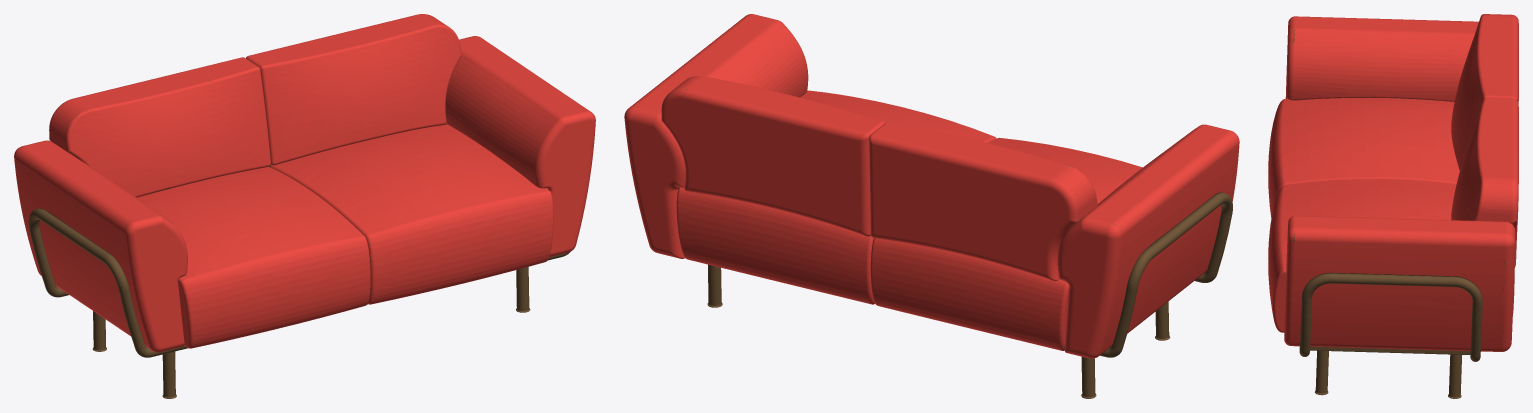
The model's file is sofa.glb.
The picture shows the model from 3 angles, left to right: view 1: azimuth 30°, elevation 25°; view 2: azimuth 150°, elevation 25°; view 3: azimuth 270°, elevation 25°; orthographic projection. The views are drawn at different scales.
Parts seen in each view (by area): view 1: Model of Sofa L154_2; view 2: Model of Sofa L154_2; view 3: Model of Sofa L154_2.
Boxes of the visible parts, x1=… form: Model of Sofa L154_2: x1=14, y1=14, x2=595, y2=398; Model of Sofa L154_2: x1=624, y1=14, x2=1239, y2=398; Model of Sofa L154_2: x1=1268, y1=14, x2=1518, y2=398.
Bounding box in the file's own units: 6.56 × 3 × 3.13.
